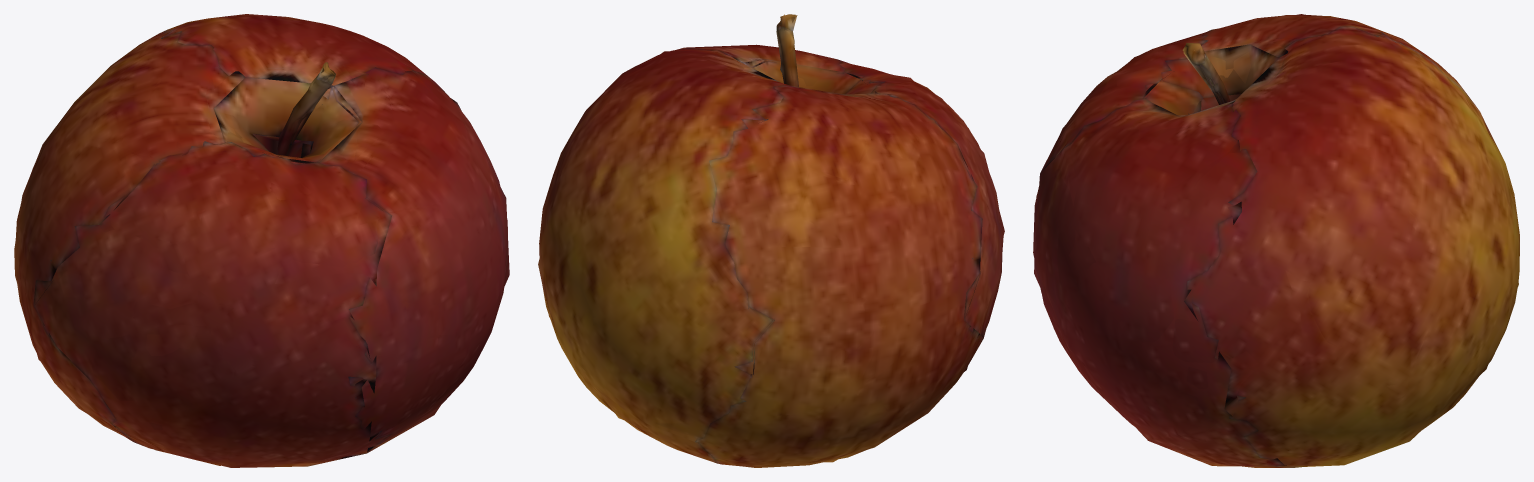
The model's file is imp-apple.glb.
3 renders of one model, left to right at view 1: azimuth 30°, elevation 25°; view 2: azimuth 150°, elevation 25°; view 3: azimuth 270°, elevation 25°, orthographic. The views are drawn at different scales.
Parts seen in each view (by area): view 1: food_apple_01 (×3); view 2: food_apple_01 (×3); view 3: food_apple_01 (×3).
Boxes of the visible parts, x1=… form: food_apple_01 (×3): x1=14, y1=14, x2=509, y2=467; food_apple_01 (×3): x1=538, y1=14, x2=1004, y2=467; food_apple_01 (×3): x1=1033, y1=14, x2=1519, y2=467.
Bounding box in the file's own units: 0.08 × 0.0704 × 0.0789.
Materials: 1 (1 with a texture image).
